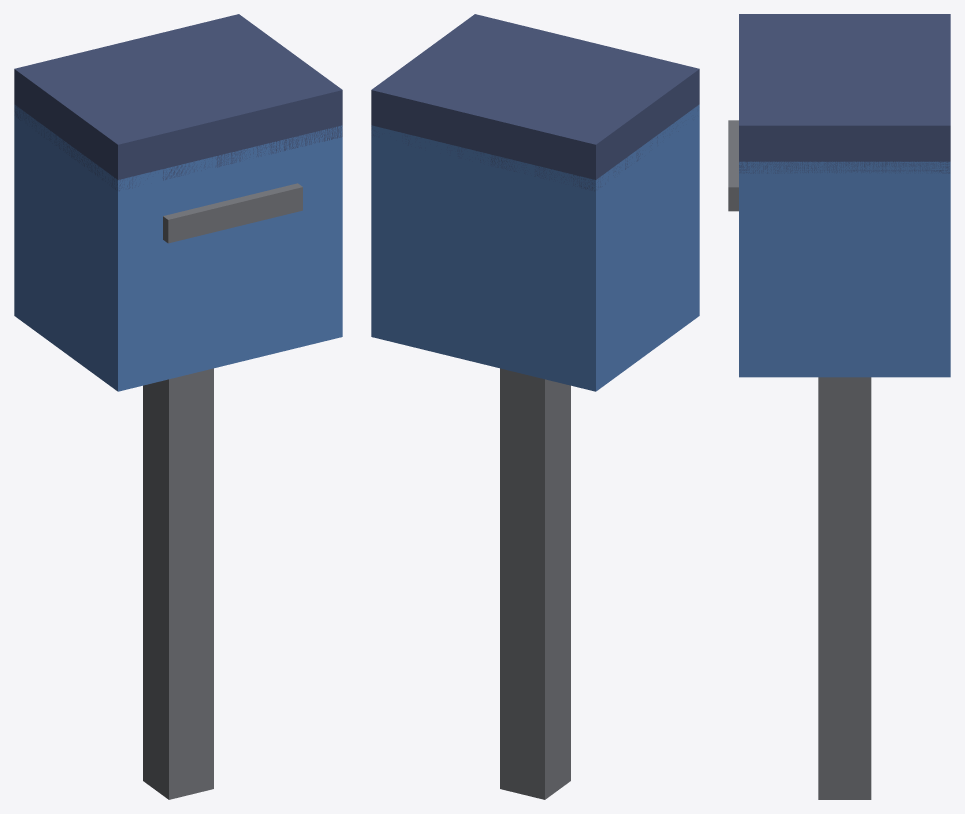
Rendered from Posta_Kutusu.glb.
3 renders of one model, left to right at view 1: azimuth 30°, elevation 25°; view 2: azimuth 150°, elevation 25°; view 3: azimuth 270°, elevation 25°, orthographic.
Visible parts, largest first — view 1: Posta_Kutusu; view 2: Posta_Kutusu; view 3: Posta_Kutusu.
Part boxes in pixels (bbox=[...]): Posta_Kutusu: bbox=[14, 14, 342, 799]; Posta_Kutusu: bbox=[371, 14, 699, 799]; Posta_Kutusu: bbox=[728, 14, 950, 799].
Size of the model in its own units: 0.5 by 1.5 by 0.42.
